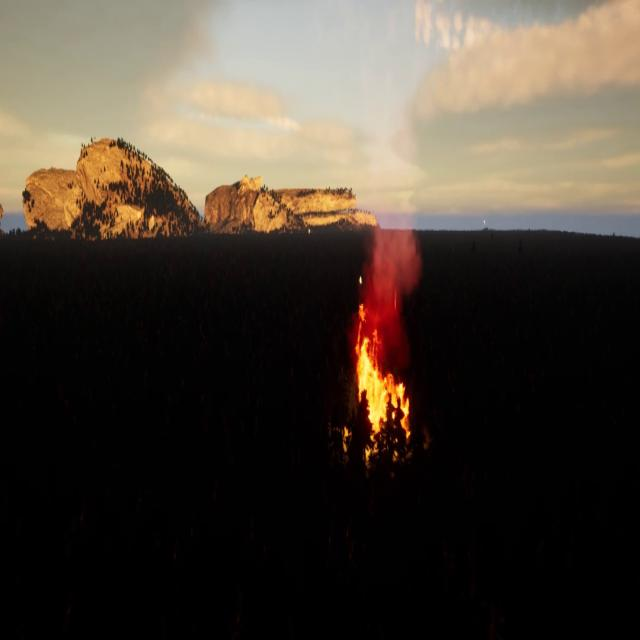fire: (344, 303, 414, 460)
smoke: (354, 217, 422, 361)
